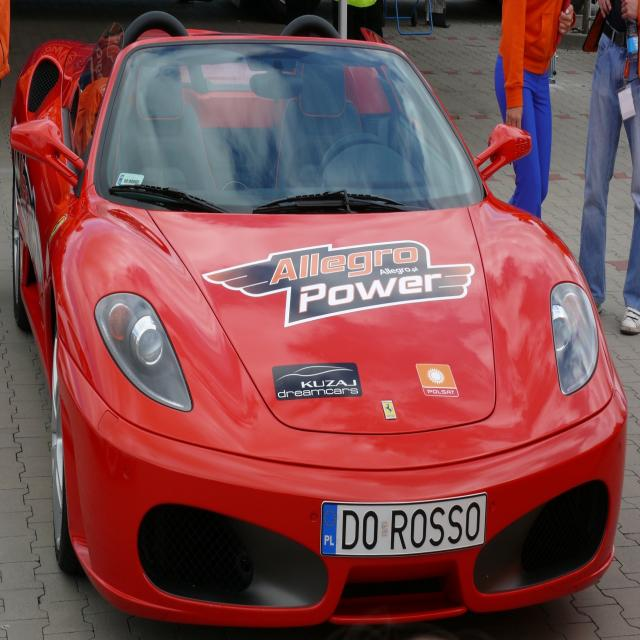pl_license_plate: (320, 492, 486, 556)
